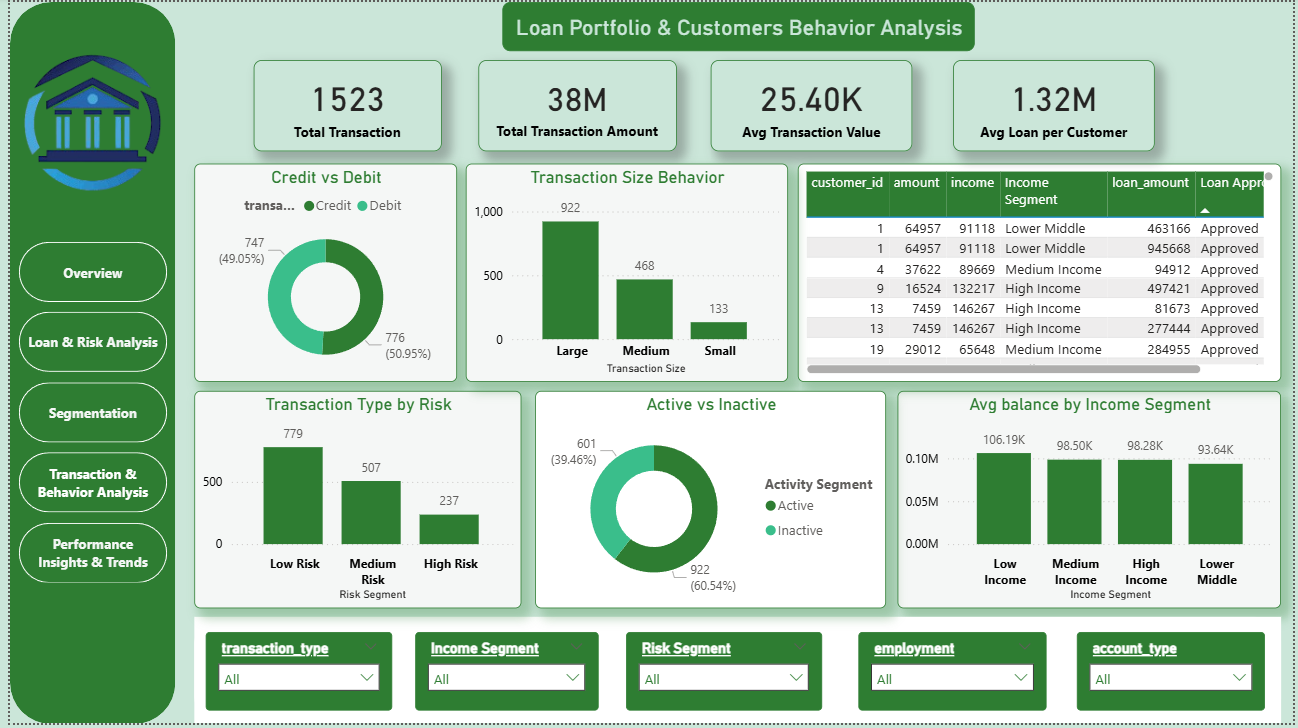

The dashboard page shown, as its layout file describes it:
{"tool":"powerbi","page":{"name":"Transaction & Behavior Analysis","canvas":[1280,720],"ordinal":3},"visuals":[{"type":"shape","box":[0,0,165,720.5],"z":0},{"type":"shape","title":"Loan Portfolio & Customers Behavior Analysis","box":[491.3,0,471.1,49.1],"z":1000},{"type":"pageNavigator","box":[8.8,239.3,148.6,341.4],"z":2000},{"type":"image","box":[0,11.3,165,219.2],"z":3000},{"type":"card","fields":{"Values":["CountNonNull(banking_loan_db cust_trans_loan.transaction_id)"]},"box":[243.1,57.9,187.7,90.7],"z":4000},{"type":"card","fields":{"Values":["Sum(banking_loan_db transactions.amount)"]},"box":[467.3,57.9,197.8,90.7],"z":5000},{"type":"card","fields":{"Values":["Avg(banking_loan_db transactions.amount)"]},"box":[699.1,57.9,201.5,90.7],"z":6000},{"type":"donutChart","title":"Credit vs Debit","fields":{"Category":["banking_loan_db cust_trans_loan.transaction_type"],"Y":["CountNonNull(banking_loan_db cust_trans_loan.amount)"]},"box":[183.9,161.2,262,217.9],"z":7000},{"type":"columnChart","title":"Avg balance by Income Segment","fields":{"Category":["banking_loan_db cust_trans_loan.Income Segment"],"Y":["Avg(banking_loan_db cust_trans_loan.balance)"]},"box":[885.5,388,382.9,216.7],"z":8000},{"type":"tableEx","title":"Top Customers","fields":{"Values":["banking_loan_db cust_trans_loan.customer_id","Sum(banking_loan_db cust_trans_loan.amount)","Sum(banking_loan_db cust_trans_loan.income)","banking_loan_db cust_trans_loan.Income Segment","banking_loan_db cust_trans_loan.loan_amount","banking_loan_db cust_trans_loan.Loan Approved Status"]},"box":[786,161.2,482.5,217.9],"z":9000},{"type":"shape","box":[183.9,612.9,1084.6,107.1],"z":10000},{"type":"slicer","fields":{"Values":["banking_loan_db cust_trans_loan.transaction_type"]},"box":[195.2,628.6,186.4,78.1],"z":11000},{"type":"slicer","fields":{"Values":["banking_loan_db cust_trans_loan.Income Segment"]},"box":[404.4,628.6,182.7,78.1],"z":12000},{"type":"slicer","fields":{"Values":["banking_loan_db cust_trans_loan.Risk Segment"]},"box":[614.7,628.6,195.2,78.1],"z":13000},{"type":"slicer","fields":{"Values":["banking_loan_db cust_trans_loan.employment"]},"box":[846.5,628.6,187.7,78.1],"z":14000},{"type":"slicer","fields":{"Values":["banking_loan_db cust_trans_loan.account_type"]},"box":[1064.4,628.6,187.7,78.1],"z":15000},{"type":"card","fields":{"Values":["banking_loan_db cust_trans_loan.Avg Loan per Customer"]},"box":[941,57.9,201.5,90.7],"z":16000},{"type":"columnChart","title":"Transaction Type by Risk","fields":{"Category":["banking_loan_db cust_trans_loan.Risk Segment"],"Y":["CountNonNull(banking_loan_db cust_trans_loan.transaction_type)"]},"box":[183.9,388,326.3,216.7],"z":17000},{"type":"columnChart","title":"Transaction Size Behavior","fields":{"Category":["banking_loan_db cust_trans_loan.Transaction Size"],"Y":["CountNonNull(banking_loan_db cust_trans_loan.transaction_id)"]},"box":[454.7,161.2,321.2,217.9],"z":18000},{"type":"donutChart","title":"Active vs Inactive","fields":{"Category":["banking_loan_db cust_trans_loan.Activity Segment"],"Y":["CountNonNull(banking_loan_db cust_trans_loan.customer_id)"]},"box":[524,388,350.2,216.7],"z":19000}]}

Visuals, with their boxes in screenshot pixels (x1, y1, x2, y2), scaled from the page's 1280x720 canvas onto the 1298x728 screenshot:
shape: <bbox>0, 0, 167, 727</bbox>
"Loan Portfolio & Customers Behavior Analysis" shape: <bbox>498, 0, 976, 50</bbox>
pageNavigator: <bbox>9, 242, 160, 587</bbox>
image: <bbox>0, 11, 167, 233</bbox>
card - CountNonNull(banking_loan_db cust_trans_loan.transaction_id): <bbox>247, 59, 437, 150</bbox>
card - Sum(banking_loan_db transactions.amount): <bbox>474, 59, 674, 150</bbox>
card - Avg(banking_loan_db transactions.amount): <bbox>709, 59, 913, 150</bbox>
"Credit vs Debit" donutChart: <bbox>186, 163, 452, 383</bbox>
"Avg balance by Income Segment" columnChart: <bbox>898, 392, 1286, 611</bbox>
"Top Customers" tableEx: <bbox>797, 163, 1286, 383</bbox>
shape: <bbox>186, 620, 1286, 727</bbox>
slicer - banking_loan_db cust_trans_loan.transaction_type: <bbox>198, 636, 387, 715</bbox>
slicer - banking_loan_db cust_trans_loan.Income Segment: <bbox>410, 636, 595, 715</bbox>
slicer - banking_loan_db cust_trans_loan.Risk Segment: <bbox>623, 636, 821, 715</bbox>
slicer - banking_loan_db cust_trans_loan.employment: <bbox>858, 636, 1049, 715</bbox>
slicer - banking_loan_db cust_trans_loan.account_type: <bbox>1079, 636, 1270, 715</bbox>
card - banking_loan_db cust_trans_loan.Avg Loan per Customer: <bbox>954, 59, 1159, 150</bbox>
"Transaction Type by Risk" columnChart: <bbox>186, 392, 517, 611</bbox>
"Transaction Size Behavior" columnChart: <bbox>461, 163, 787, 383</bbox>
"Active vs Inactive" donutChart: <bbox>531, 392, 886, 611</bbox>
